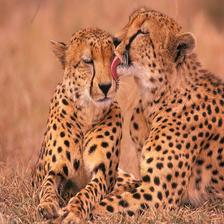Cheetah: (58, 5, 224, 222), (27, 25, 137, 224)
